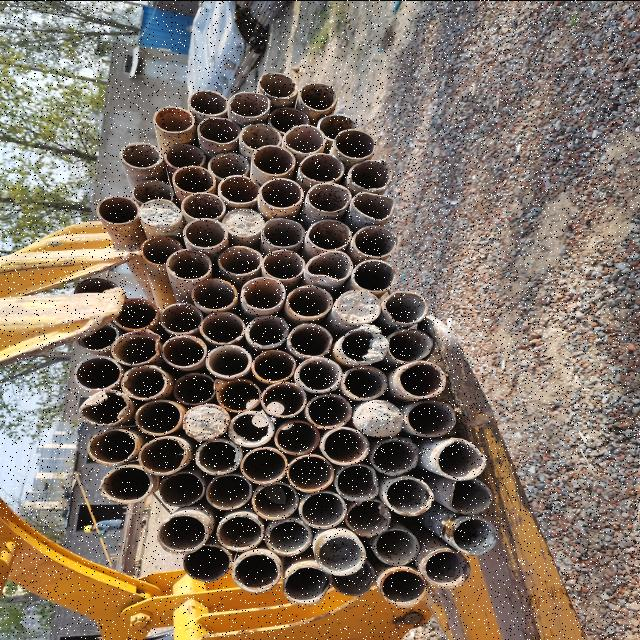pipe: (154, 512, 212, 554), (258, 514, 312, 558), (431, 438, 487, 480), (313, 532, 366, 576), (380, 474, 434, 517), (99, 463, 157, 503), (136, 434, 194, 474), (232, 548, 282, 592), (420, 548, 472, 590), (377, 567, 429, 609), (318, 426, 372, 466), (181, 542, 235, 582), (353, 396, 404, 438), (297, 488, 348, 530), (86, 428, 142, 466), (72, 353, 126, 392), (448, 515, 498, 557), (76, 389, 132, 426), (281, 563, 330, 605), (132, 398, 186, 436), (403, 399, 458, 436), (109, 328, 162, 366), (202, 472, 255, 510), (370, 436, 420, 476), (238, 446, 290, 484), (337, 326, 388, 364), (180, 403, 231, 441), (153, 469, 205, 506), (332, 462, 380, 502), (217, 512, 265, 552), (302, 392, 352, 430), (285, 454, 335, 492), (343, 498, 393, 536), (157, 332, 209, 368), (386, 326, 435, 364), (259, 380, 308, 418), (294, 356, 344, 393), (250, 481, 300, 518), (227, 410, 275, 448), (192, 438, 242, 474), (272, 419, 322, 455), (373, 527, 419, 566), (396, 359, 444, 396), (121, 362, 170, 398), (212, 377, 262, 412), (336, 288, 382, 326), (112, 294, 160, 330), (446, 478, 492, 515), (164, 248, 214, 282), (285, 283, 335, 317), (302, 249, 355, 281), (340, 364, 388, 399), (198, 310, 247, 344), (188, 278, 240, 310), (241, 275, 287, 311), (172, 370, 218, 406), (295, 151, 346, 183), (351, 224, 399, 258), (286, 322, 334, 356), (158, 300, 205, 334), (382, 290, 429, 324), (205, 344, 252, 378), (182, 216, 230, 249), (250, 143, 298, 176), (344, 158, 392, 190), (306, 181, 354, 213), (351, 258, 396, 292), (260, 249, 307, 281), (224, 90, 274, 120), (246, 314, 290, 348), (252, 348, 296, 382), (216, 243, 264, 274), (172, 163, 217, 196), (139, 234, 185, 266), (216, 174, 262, 206), (220, 206, 266, 238), (265, 105, 311, 137), (179, 190, 227, 220), (282, 123, 327, 155), (351, 190, 396, 222), (307, 218, 352, 250), (333, 127, 377, 159), (72, 322, 120, 351), (256, 70, 298, 103), (116, 139, 162, 169), (138, 198, 184, 228), (150, 104, 196, 134), (258, 177, 304, 207), (198, 115, 242, 146), (96, 194, 140, 224), (262, 216, 306, 246), (314, 112, 360, 140), (240, 123, 284, 152), (186, 88, 231, 116), (208, 150, 253, 178), (297, 80, 339, 110), (331, 568, 376, 596), (162, 142, 206, 170), (132, 178, 174, 205), (72, 277, 121, 295)
